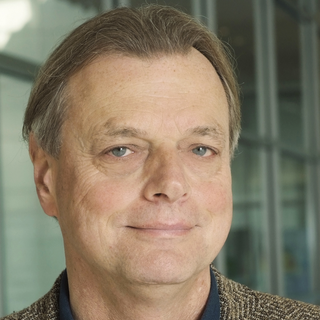eye: (92, 138, 146, 167), (181, 139, 226, 165)
